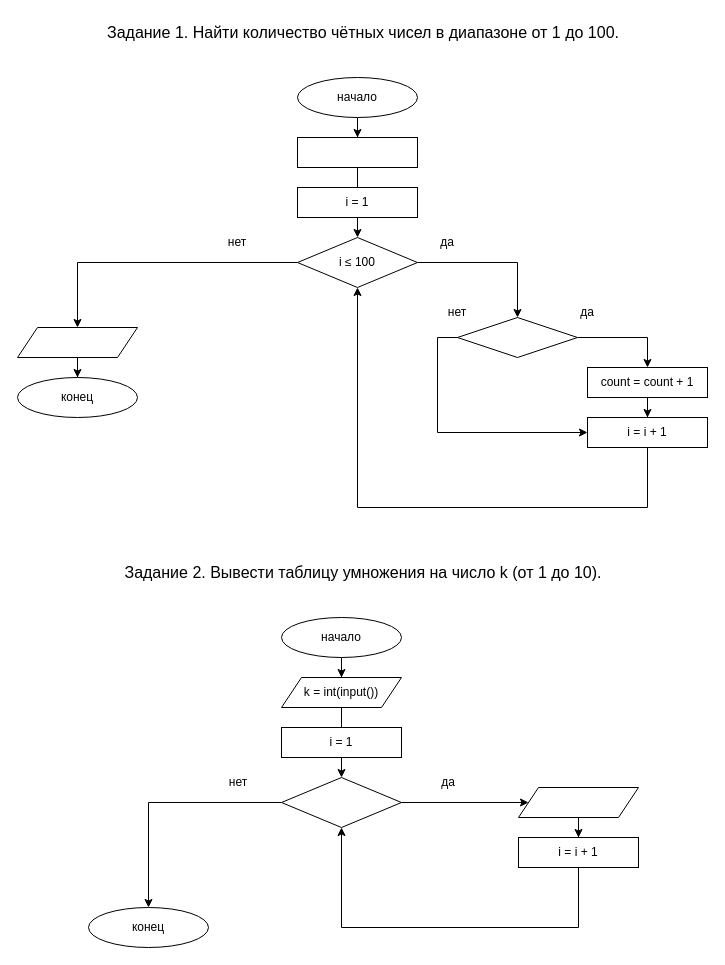
Image size: 725x965. Some labels were removed from this diagram. The shapes that lost their labels are listed below. From the top down, each one's centre as x and y in pixels, then its label:
At pixel 357 152: "count = 0".
At pixel 77 342: "print(count)".
At pixel 517 337: "i % 2 == 0".
At pixel 341 802: "i ≤ 10".
At pixel 578 802: "print(k * i)".
